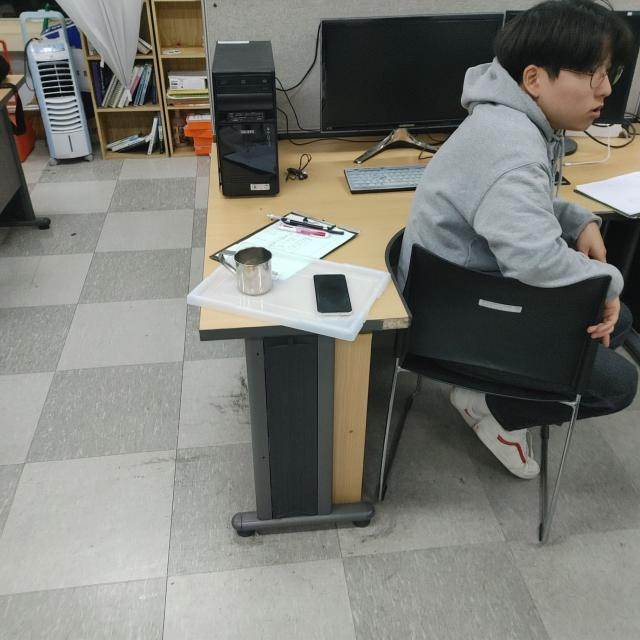cup: (218, 248, 276, 296)
phone: (313, 273, 353, 315)
